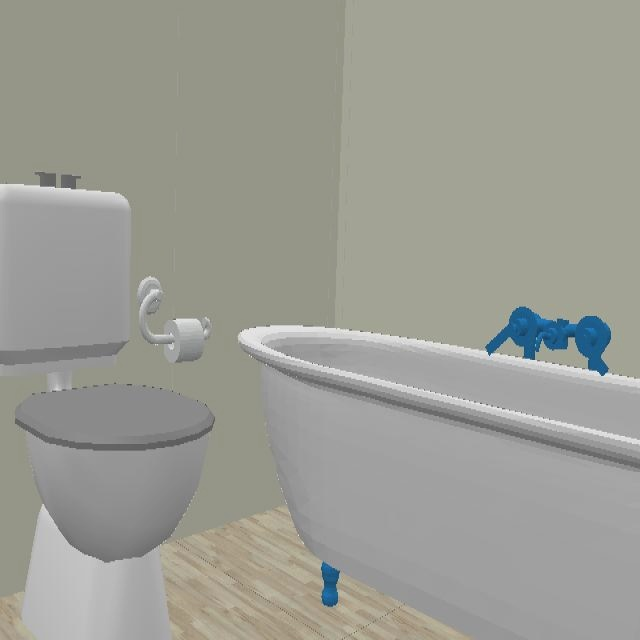bathtube: (237, 325, 640, 640)
toilet: (0, 175, 215, 640)
